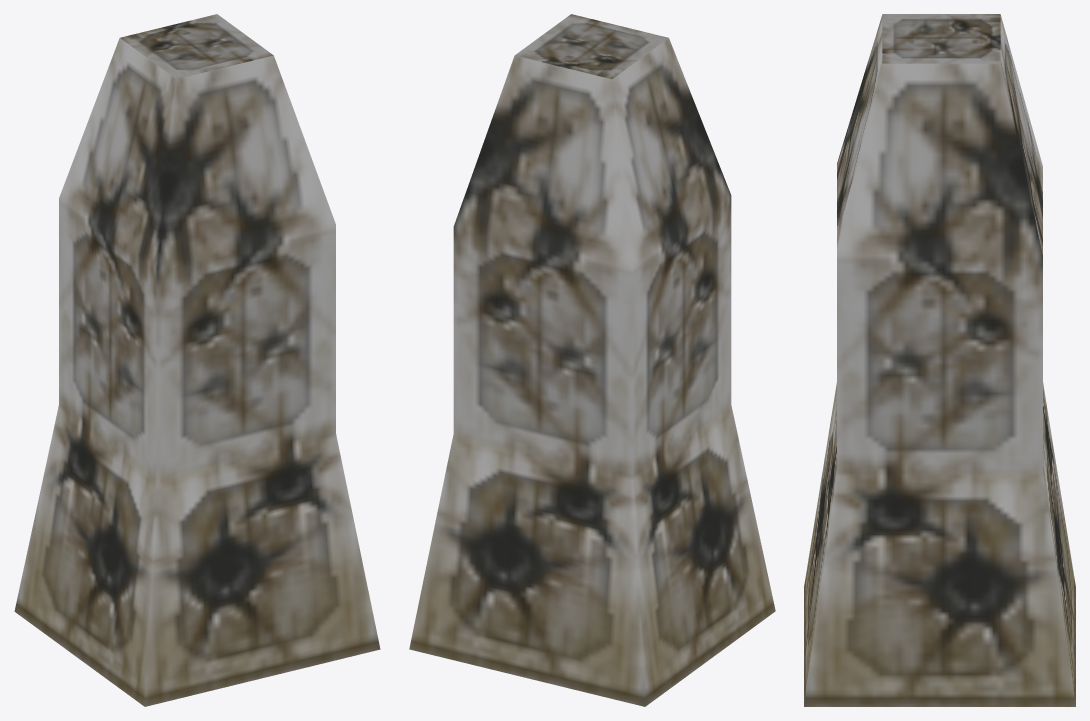
File: l_heavypost_dam.glb
The picture shows the model from 3 angles, left to right: view 1: azimuth 30°, elevation 25°; view 2: azimuth 150°, elevation 25°; view 3: azimuth 270°, elevation 25°; orthographic projection. The views are drawn at different scales.
Parts seen in each view (by area): view 1: L_HeavyWallDAM; view 2: L_HeavyWallDAM; view 3: L_HeavyWallDAM.
Boxes of the visible parts, left/top/right/bottom form: L_HeavyWallDAM: left=14, top=14, right=380, bottom=706; L_HeavyWallDAM: left=409, top=14, right=775, bottom=706; L_HeavyWallDAM: left=804, top=14, right=1075, bottom=706.
Bounding box in the file's own units: 7.52 × 17.81 × 7.21.
Materials: 1 (1 with a texture image).
